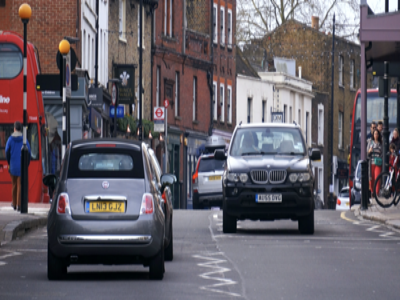licence: (86, 200, 125, 215), (254, 192, 284, 203)
